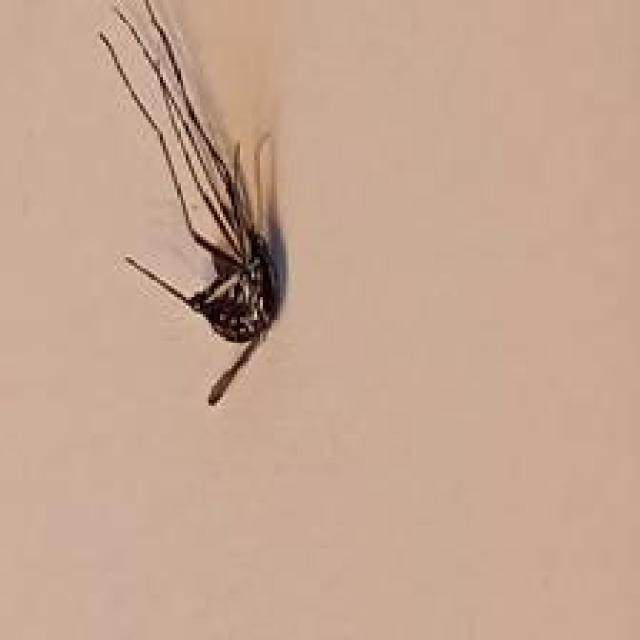Aedes albopictus: (96, 0, 287, 406)
